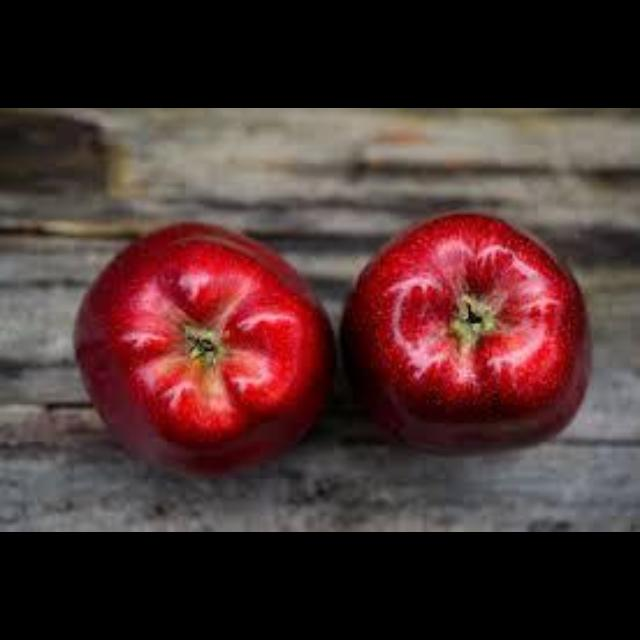apple: (74, 224, 334, 474), (343, 212, 589, 454)
